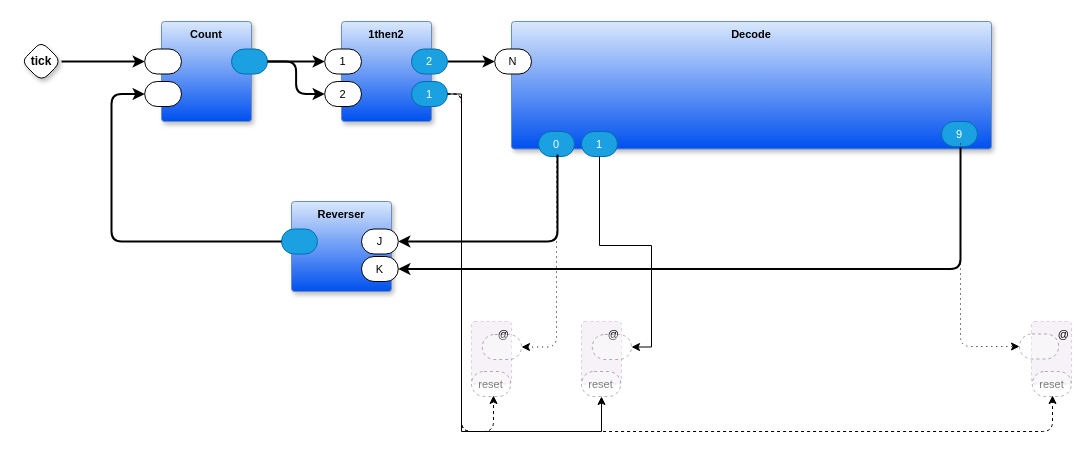
This 1089x457 diagram has some shape labels left out. The centre of each missing label's shape, as x and y in pixels:
"adv" belongs at (x=163, y=61).
"rev" belongs at (x=163, y=93).
